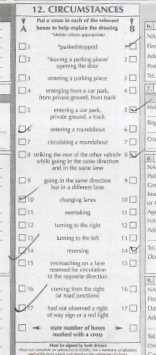check: (127, 149, 139, 160), (127, 245, 139, 256), (16, 245, 28, 256), (17, 302, 28, 314), (17, 194, 28, 205), (127, 104, 138, 114), (17, 124, 28, 134), (128, 41, 138, 51)
